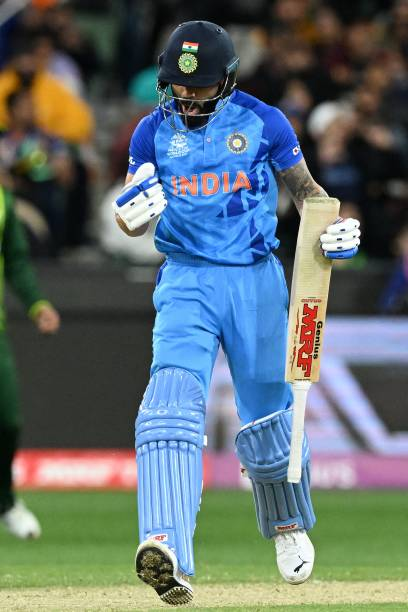bottom left: (291, 190, 317, 216)
bottom right: (329, 189, 351, 217)
top left: (281, 365, 298, 386)
top right: (311, 369, 329, 395)
